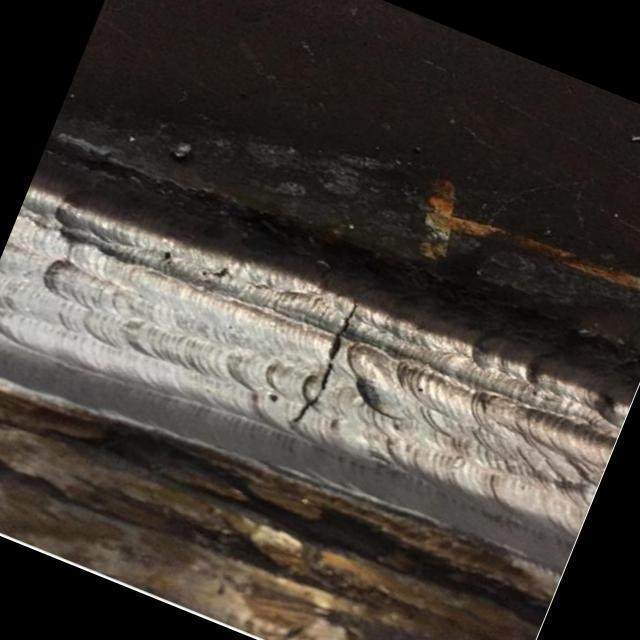defect: (285, 293, 364, 428)
